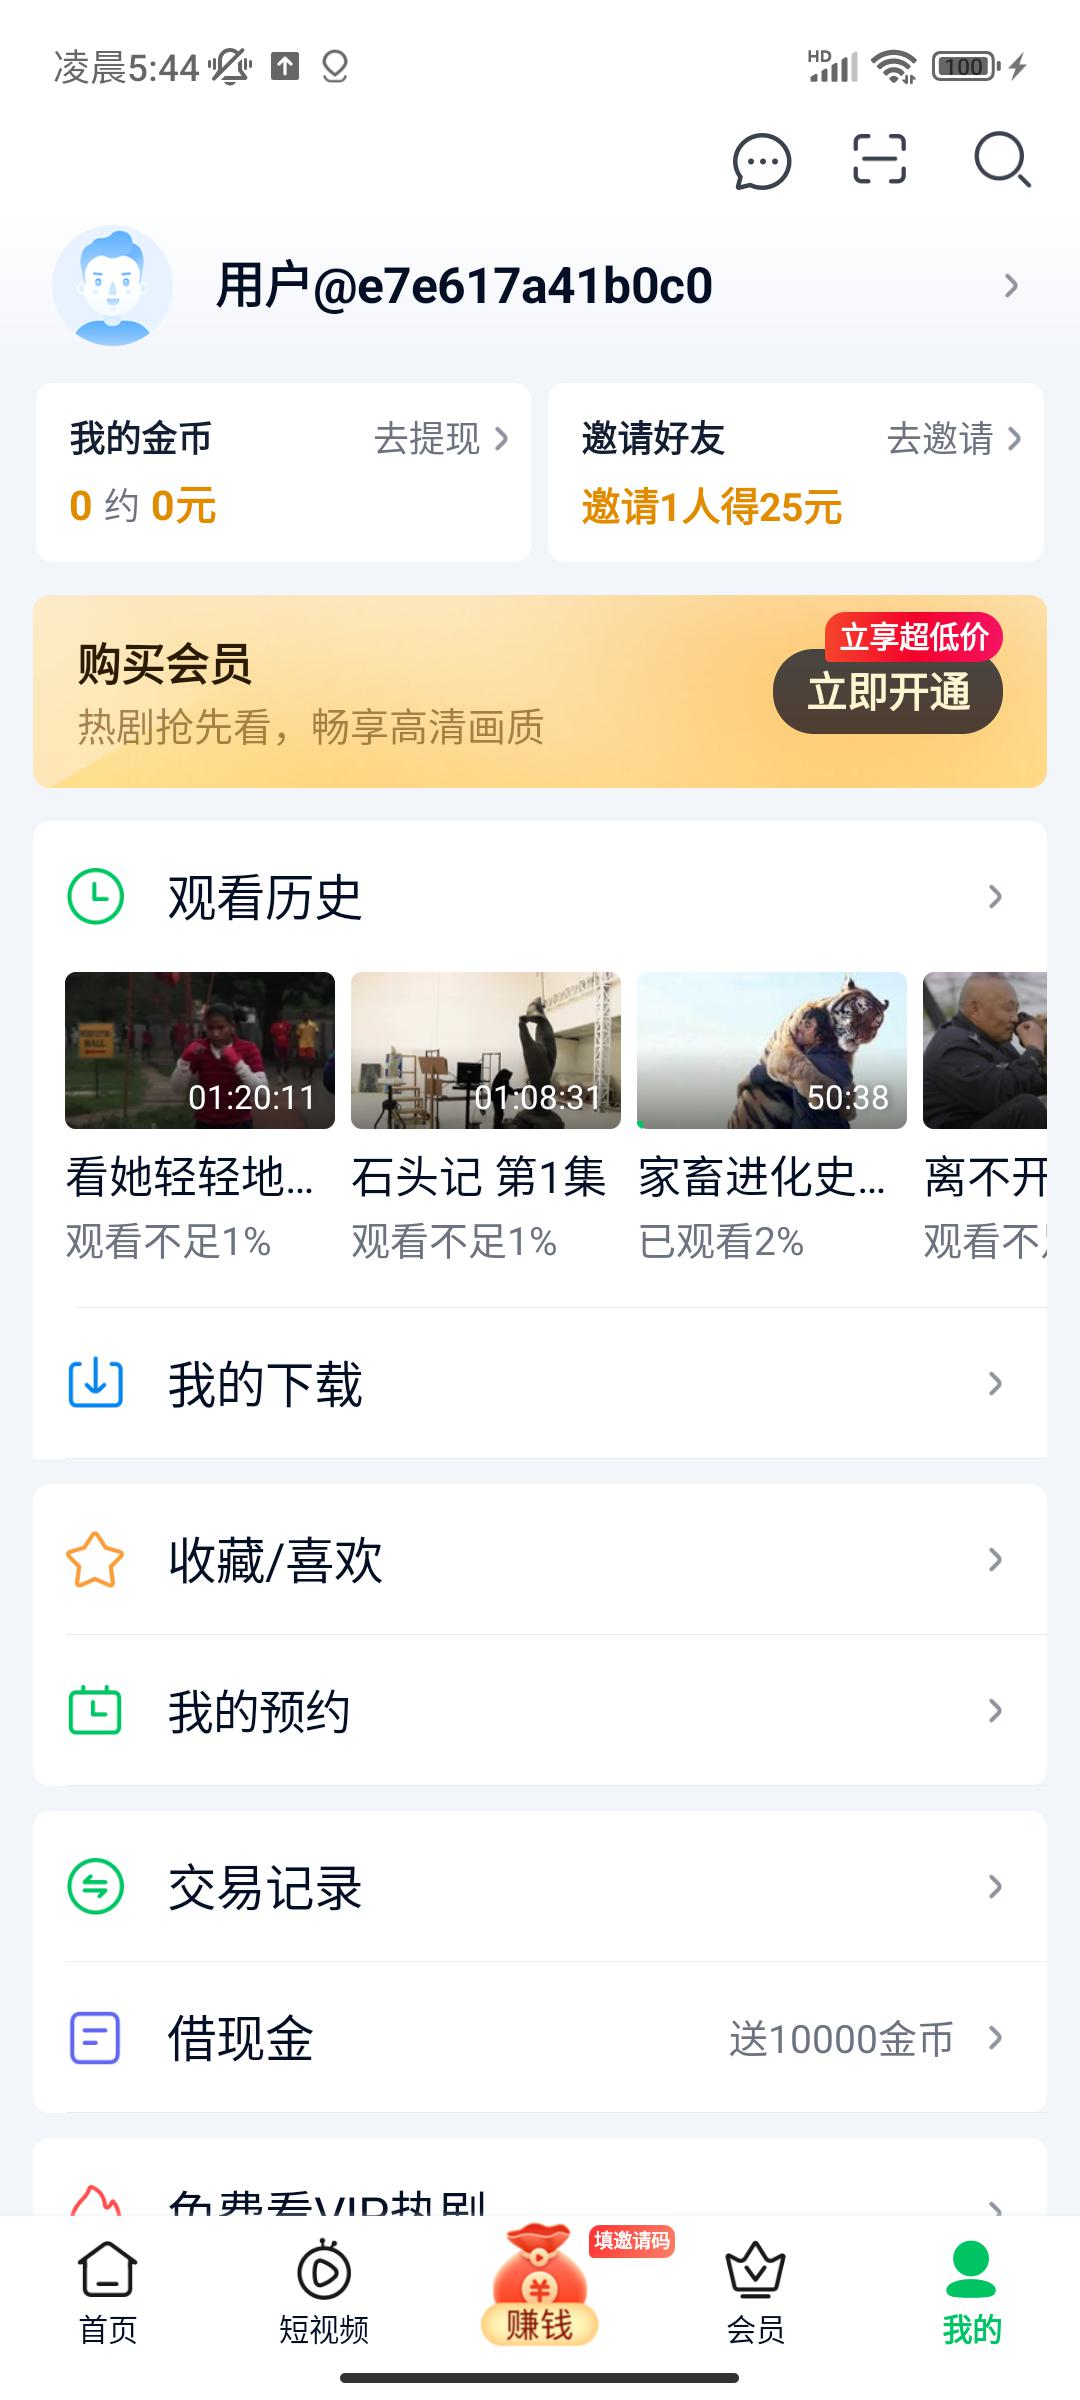ui_group: (35, 823, 1054, 1293), (28, 592, 1036, 787), (34, 389, 537, 562), (552, 389, 1030, 563)
